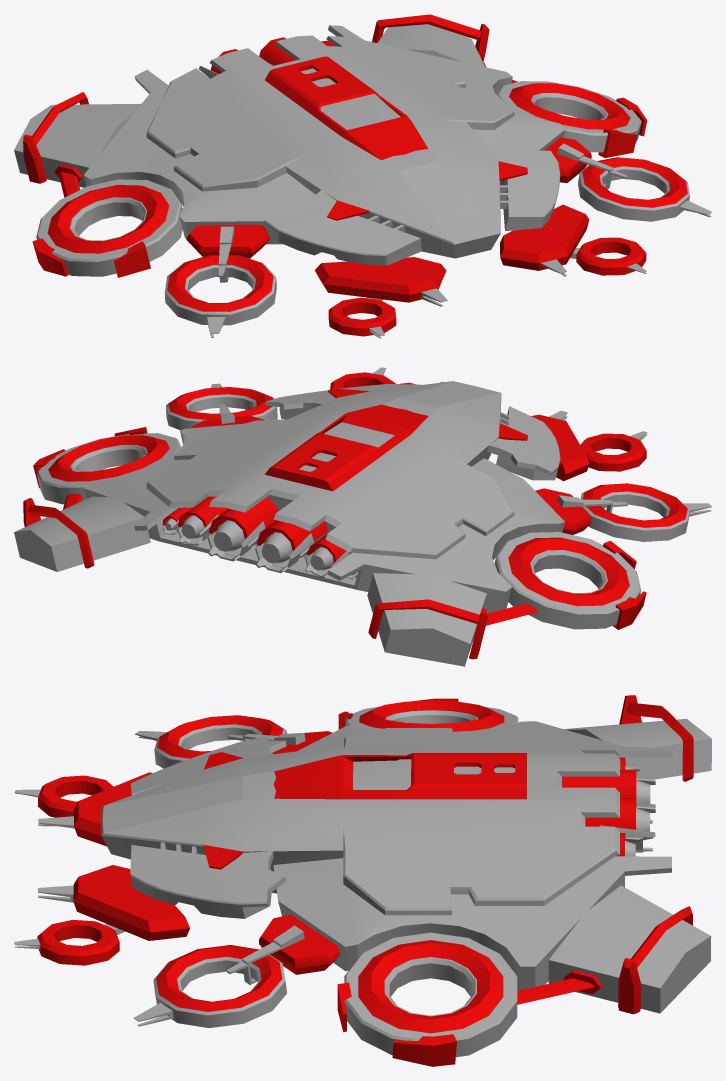
File: Kenos5.fbx
3 views of the same model, one above another, from view 1: azimuth 30°, elevation 25°; view 2: azimuth 150°, elevation 25°; view 3: azimuth 270°, elevation 25° (orthographic). The views are drawn at different scales.
Parts seen in each view (by area): view 1: kenos5_diffuse, kenos5_color; view 2: kenos5_diffuse, kenos5_color; view 3: kenos5_diffuse, kenos5_color.
Part boxes in pixels (x1,y1,x2,y2): kenos5_diffuse: (14,24,711,338); kenos5_color: (23,14,687,336); kenos5_diffuse: (14,367,711,666); kenos5_color: (23,372,687,659); kenos5_diffuse: (14,706,711,1057); kenos5_color: (37,695,693,1066).
Size of the model in its own units: 15.06 by 2.58 by 12.78.
